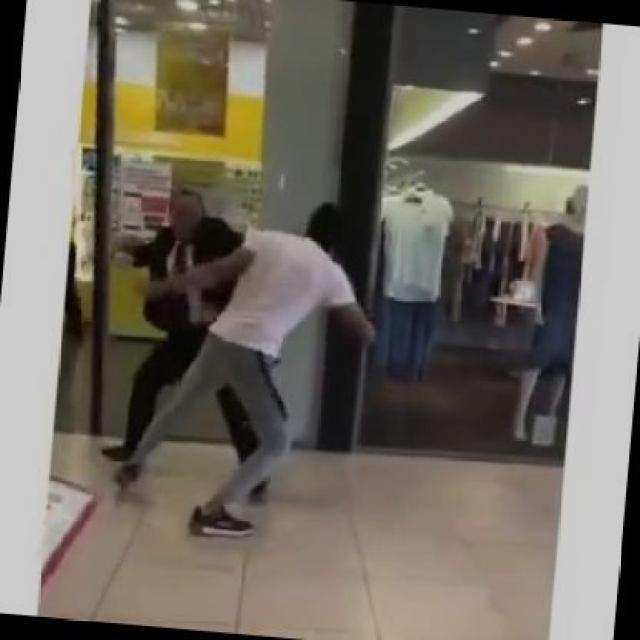fight: (95, 189, 394, 543)
